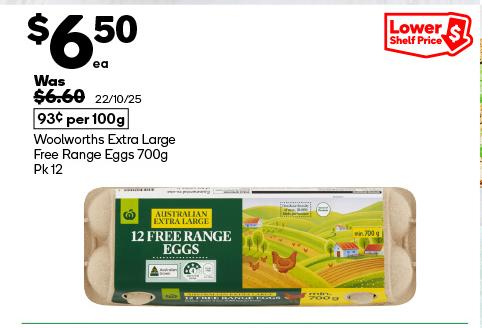description_block: (28, 131, 194, 180)
price_main: (22, 9, 154, 76)
product_image_block: (72, 172, 438, 313)
promo_text_block: (371, 8, 472, 61)
unit_price_block: (30, 105, 146, 131)
